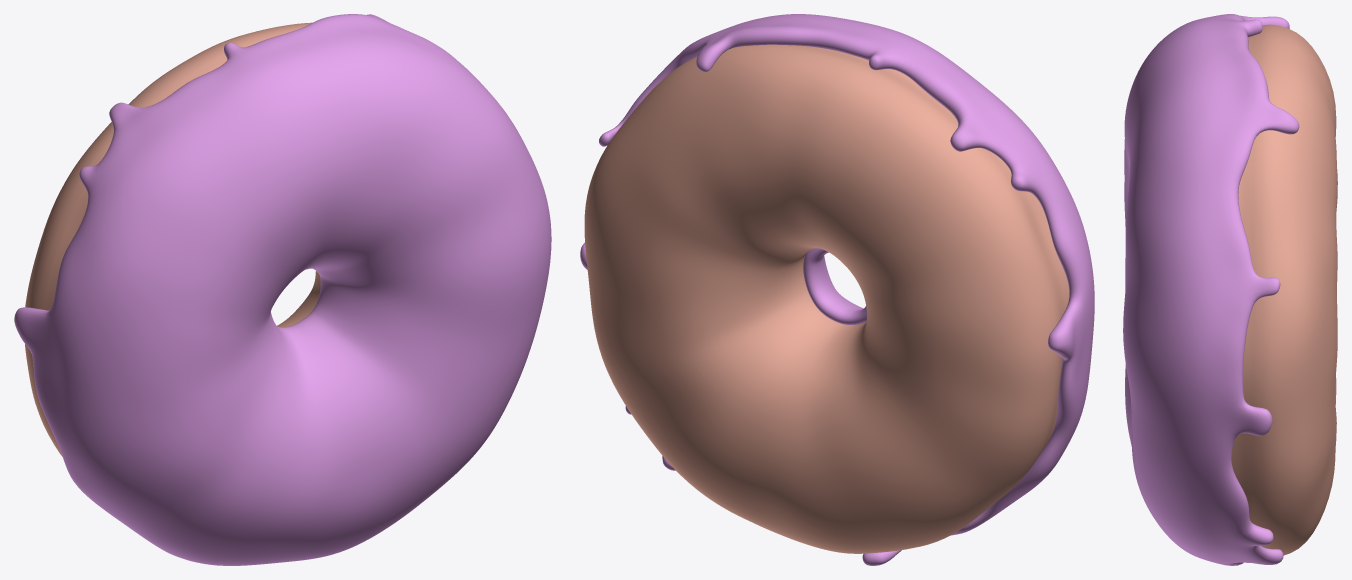
File: donut2.fbx
The picture shows the model from 3 angles, left to right: view 1: azimuth 30°, elevation 25°; view 2: azimuth 150°, elevation 25°; view 3: azimuth 270°, elevation 25°; orthographic projection. The views are drawn at different scales.
Parts seen in each view (by area): view 1: Icing, Donut; view 2: Donut, Icing; view 3: Icing, Donut.
Boxes of the visible parts, <box> form: Icing: <box>14,14,551,565</box>; Donut: <box>25,22,320,456</box>; Donut: <box>584,44,1069,553</box>; Icing: <box>580,14,1094,565</box>; Icing: <box>1123,14,1299,565</box>; Donut: <box>1231,24,1337,555</box>.
Bounding box in the file's own units: 105 × 104 × 40.15.
